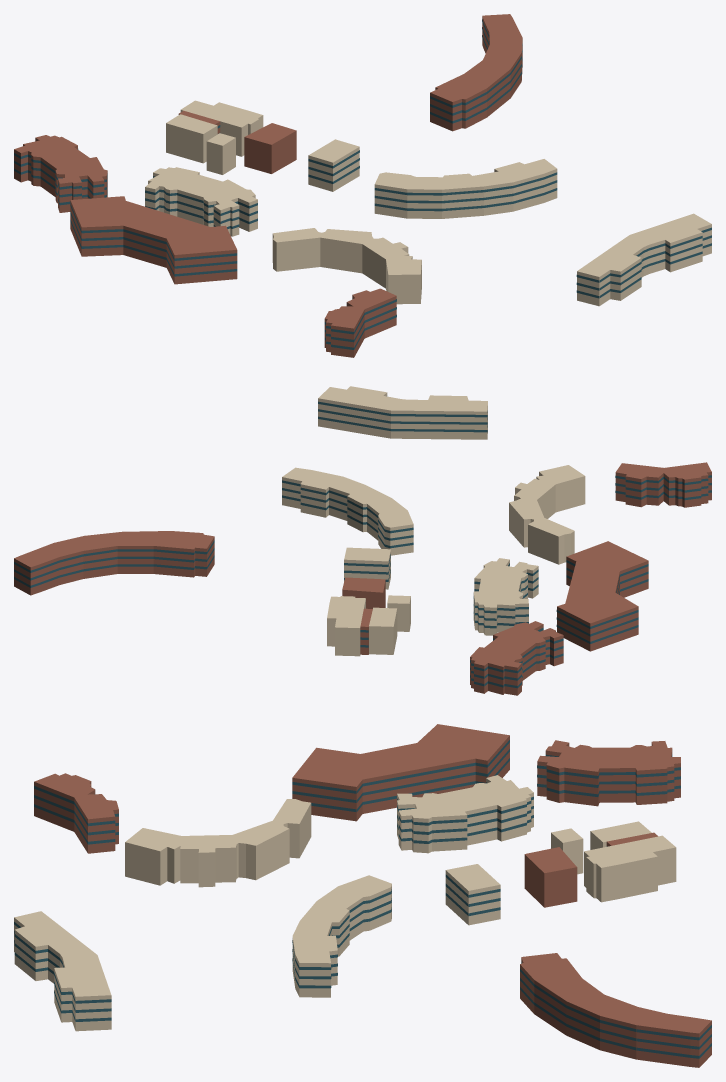
File: city_5_-4.glb
3 views of the same model, one above another, from view 1: azimuth 30°, elevation 25°; view 2: azimuth 150°, elevation 25°; view 3: azimuth 270°, elevation 25° (orthographic). The views are drawn at different scales.
Parts seen in each view (by area): view 1: city_5_-4; view 2: city_5_-4; view 3: city_5_-4.
Part boxes in pixels (bbox=[...]): city_5_-4: bbox=[14, 14, 711, 357]; city_5_-4: bbox=[14, 386, 711, 695]; city_5_-4: bbox=[14, 724, 711, 1067].
Size of the model in its own units: 289 by 15 by 275.
